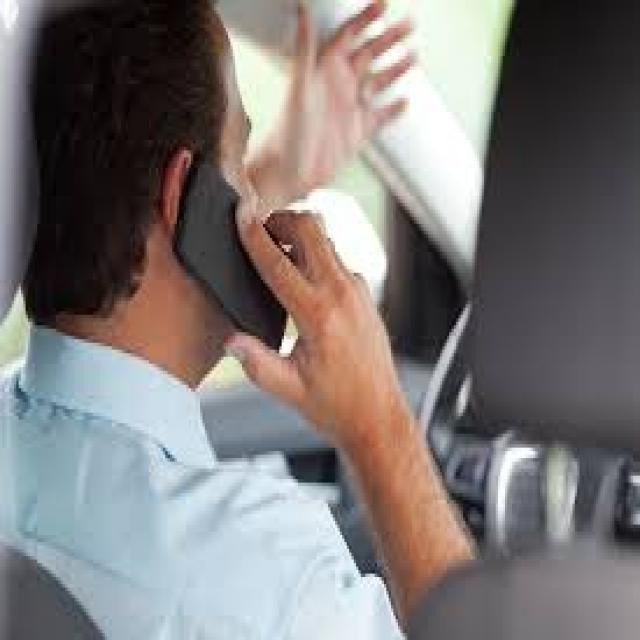Cellphone_calling: (149, 122, 363, 420)
